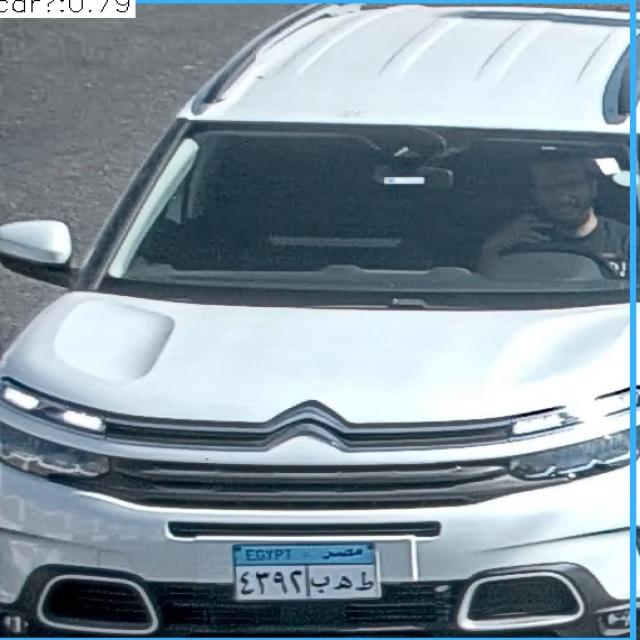windshield: (106, 136, 632, 284)
